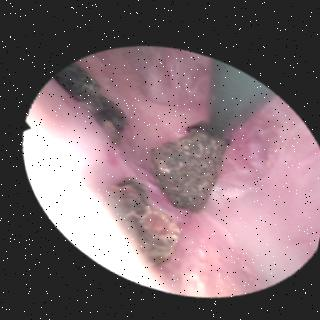stone: (149, 125, 223, 208), (107, 176, 176, 261), (59, 64, 123, 137)
tissue: (26, 97, 319, 290), (27, 47, 208, 186)
